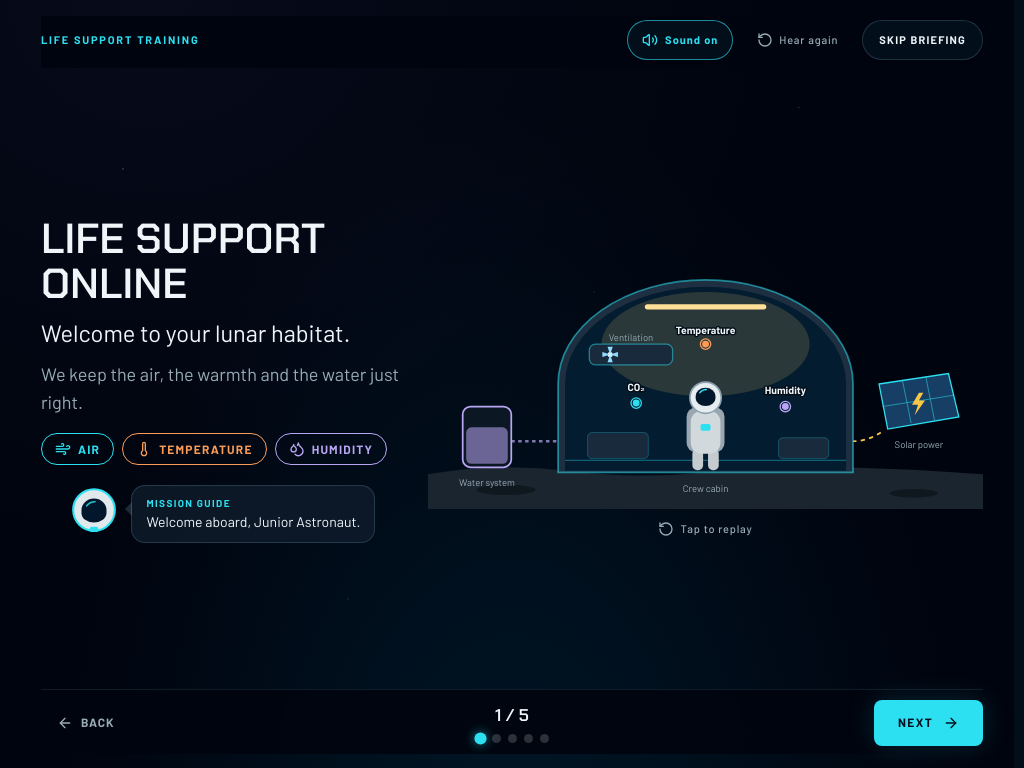
Ages 7-9 get a calmer, simpler briefing › scene 3: two-step chains and one line about power, without the extra notes
Click the button "NEXT" at (928, 723), box [874,700,983,746]
Wait 100 ms
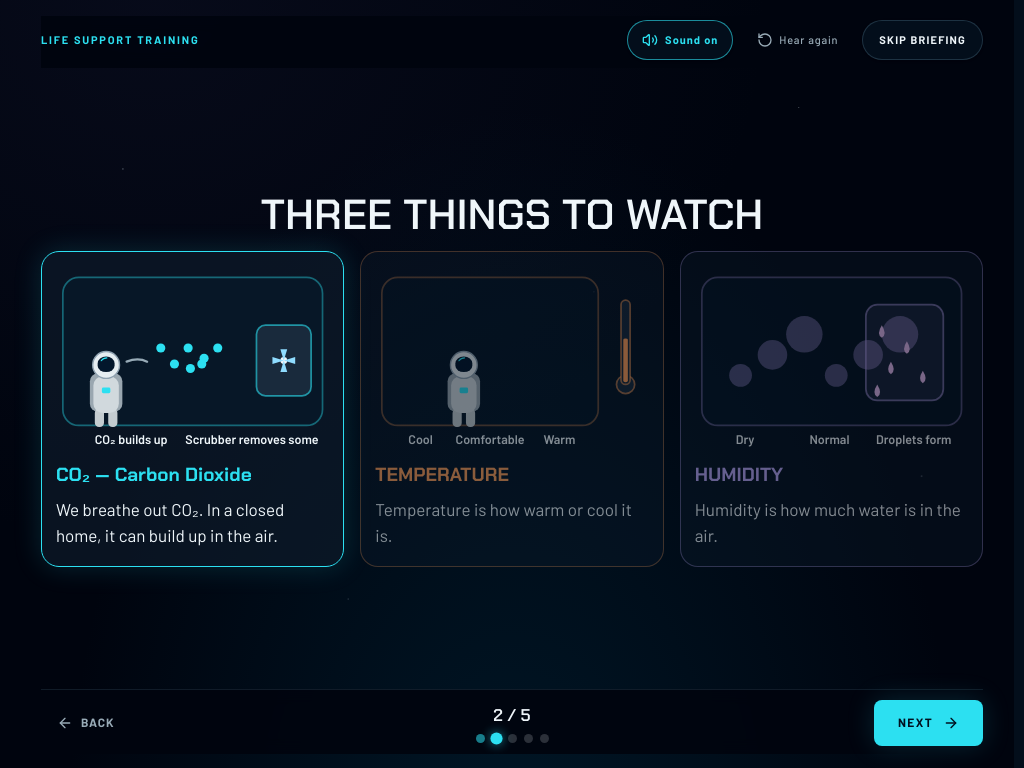
Click the button "NEXT" at (928, 723), box [874,700,983,746]
Wait 100 ms
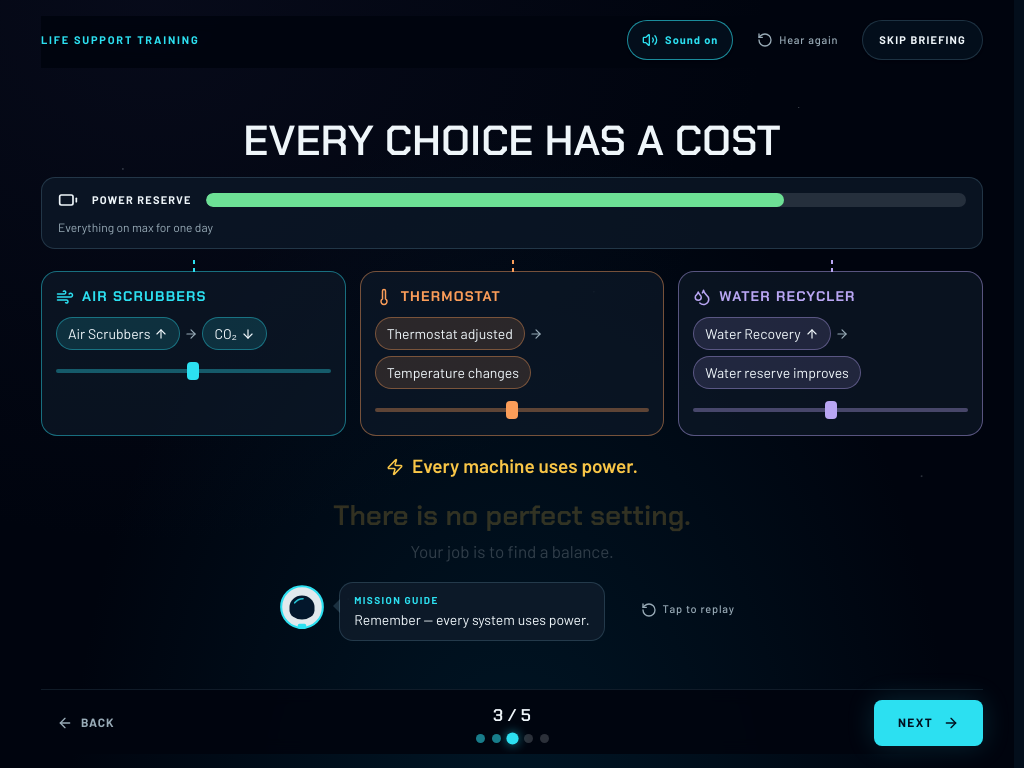
Check: the text "Every machine uses power." is shown, box [386,452,638,481]
Check: the number of elements with class "chain-chip" is 6, box [56,317,180,350]; [202,317,267,350]; [375,317,525,350]; [375,356,531,389]; [693,317,831,350]; [693,356,861,389]
